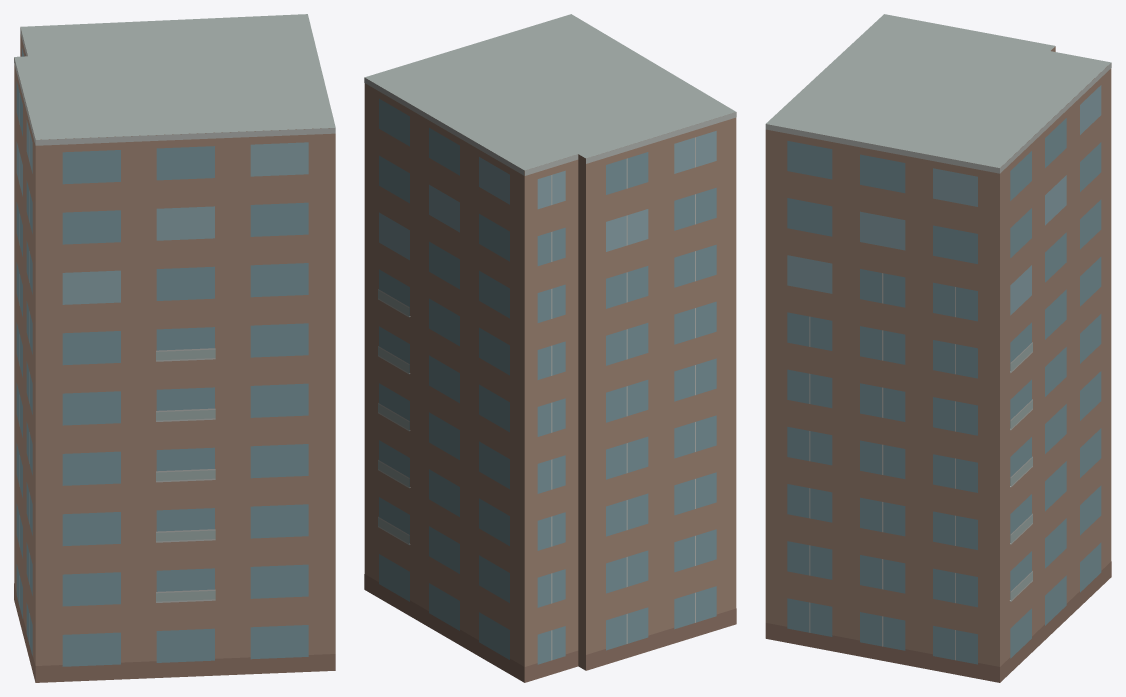
File: survey-upis-32947477.glb
3 renders of one model, left to right at view 1: azimuth 30°, elevation 25°; view 2: azimuth 150°, elevation 25°; view 3: azimuth 270°, elevation 25°, orthographic. The views are drawn at different scales.
Parts seen in each view (by area): view 1: survey-upis-32947477.tmp; view 2: survey-upis-32947477.tmp; view 3: survey-upis-32947477.tmp.
Boxes of the visible parts, bbox=[...] form: survey-upis-32947477.tmp: bbox=[14, 14, 335, 682]; survey-upis-32947477.tmp: bbox=[364, 14, 736, 682]; survey-upis-32947477.tmp: bbox=[765, 14, 1111, 682].
Size of the model in its own units: 14.66 by 22.8 by 13.89.
